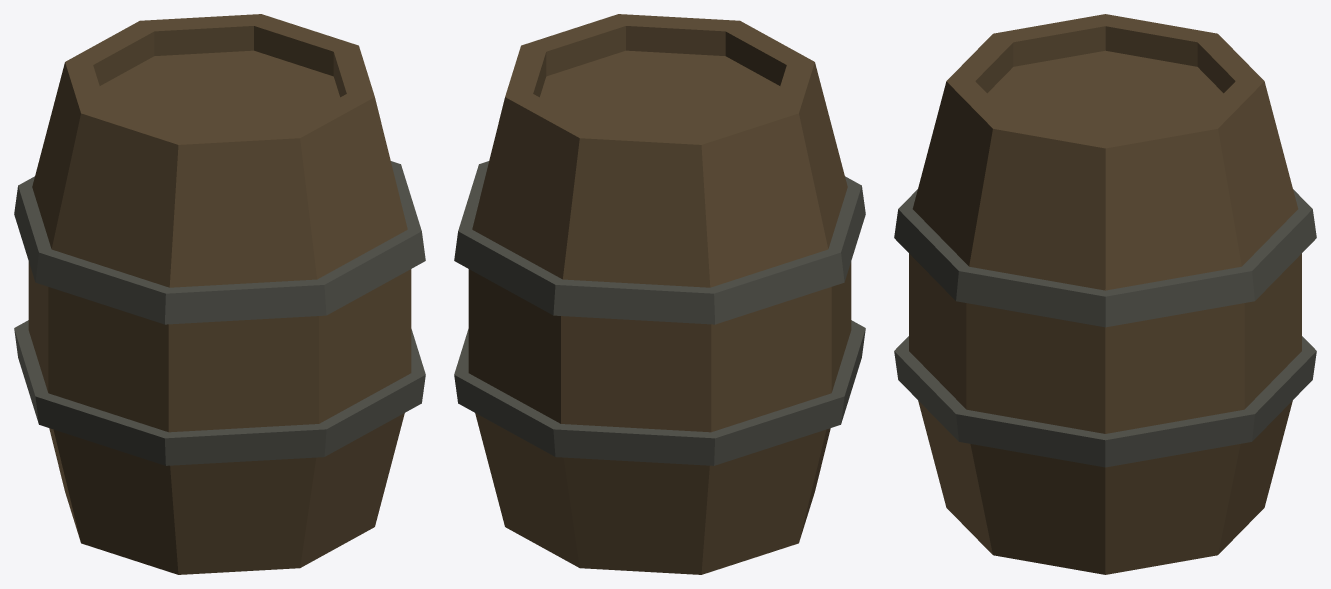
Rendered from Wood Barrel.fbx.
3 renders of one model, left to right at view 1: azimuth 30°, elevation 25°; view 2: azimuth 150°, elevation 25°; view 3: azimuth 270°, elevation 25°, orthographic.
Visible parts, largest first — view 1: Wood barrel; view 2: Wood barrel; view 3: Wood barrel.
Boxes of the visible parts, x1,y1,x2,y2 form: Wood barrel: [14, 14, 425, 574]; Wood barrel: [454, 14, 865, 574]; Wood barrel: [894, 14, 1316, 574].
Size of the model in its own units: 180 by 200 by 180.
